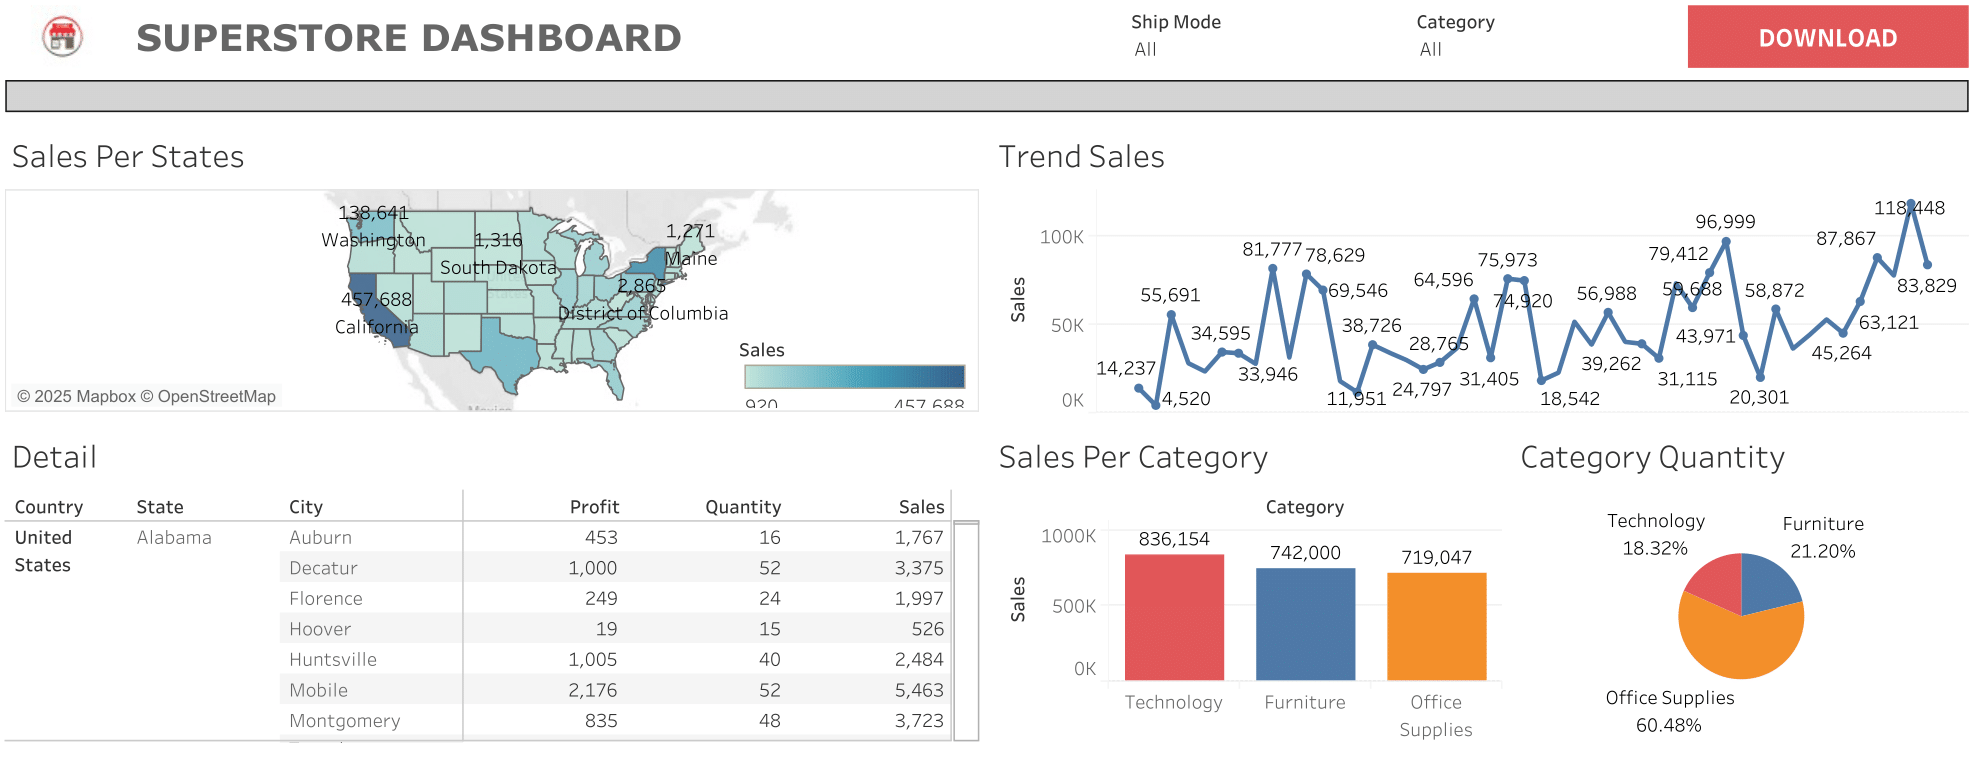

Layout of this report page (visuals, bound fields, positions):
{"tool":"tableau","page":{"name":"Superstore Dashboard","canvas":[1000,1000],"units":"permille","ordinal":0},"visuals":[{"type":"image","param":"Image/store-icon-logo-illustration-vector.jpg","box":[6.9,14.5,63.5,96]},{"type":"text","box":[70.5,14.5,498.5,96]},{"type":"filter","title":"Detail","param":"[federated.1dzgx3n1c8lqa016mrldq1ou0zln].[none:Ship Mode:nk]","box":[569,14.5,142.2,96]},{"type":"filter","title":"Detail","param":"[federated.1dzgx3n1c8lqa016mrldq1ou0zln].[none:Category:nk]","box":[711.2,14.5,135.5,96]},{"type":"dashboard-object","box":[846.7,14.5,146.4,96]},{"type":"blank","box":[6.9,110.5,986.1,58]},{"type":"worksheet","title":"Sales Per States","mark":"Automatic","box":[6.9,168.5,493,389.5]},{"type":"worksheet","title":"Trend Sales","mark":"Automatic","rows":["Sales"],"cols":["Order Date"],"box":[499.9,168.5,493.1,389.5]},{"type":"legend","title":"Sales Per States","param":"[federated.1dzgx3n1c8lqa016mrldq1ou0zln].[sum:Sales:qk]","box":[375.7,442,117.2,103.3]},{"type":"worksheet","title":"Detail","mark":"Automatic","rows":["Country","State","City"],"box":[6.9,558,493,427.6]},{"type":"worksheet","title":"Sales Per Category","mark":"Automatic","rows":["Sales"],"cols":["Category"],"box":[499.9,558,260.2,427.6]},{"type":"worksheet","title":"Category Quantity","mark":"Pie","box":[760.2,558,232.9,427.6]}]}

Visuals, with their boxes on the dashboard's canvas, which has no fixed pixel size, in thousandths of its width and height (x1, y1, x2, y2). These are canvas units, not pixel positions in the 1971x777 screenshot, which may show the page scaled, cropped or inside an application window:
image: [7,14,70,110]
text: [70,14,569,110]
"Detail" filter: [569,14,711,110]
"Detail" filter: [711,14,847,110]
dashboard-object: [847,14,993,110]
blank: [7,110,993,168]
"Sales Per States" worksheet: [7,168,500,558]
"Trend Sales" worksheet: [500,168,993,558]
"Sales Per States" legend: [376,442,493,545]
"Detail" worksheet: [7,558,500,986]
"Sales Per Category" worksheet: [500,558,760,986]
"Category Quantity" worksheet (Pie marks): [760,558,993,986]
